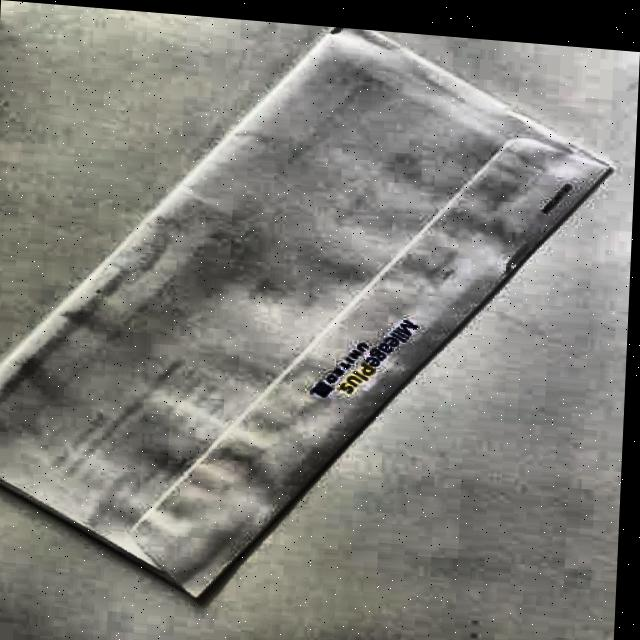paper: (0, 0, 616, 634)
